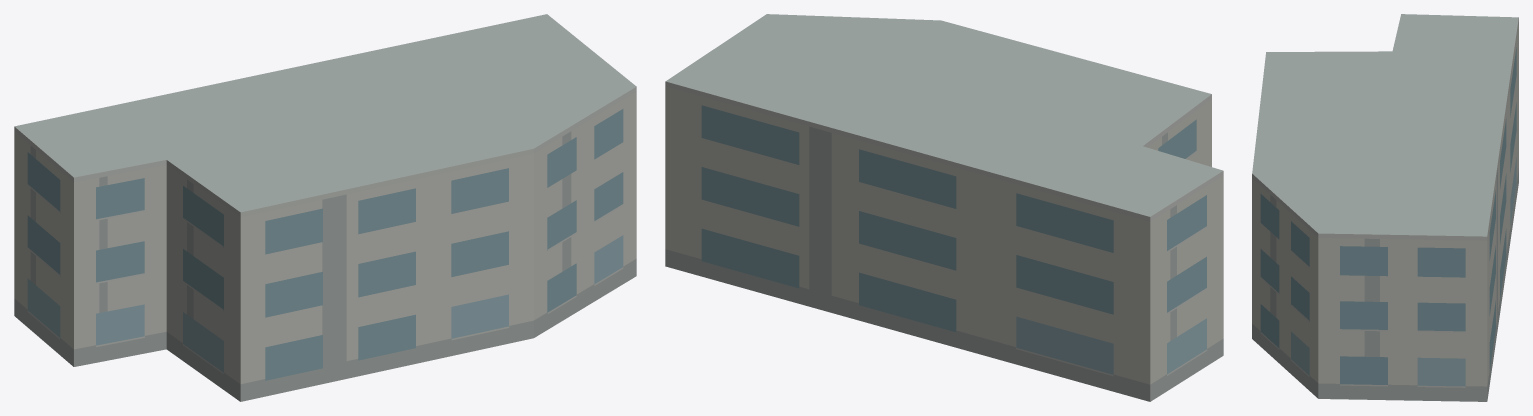
Rendered from survey-upis-33014542.glb.
3 renders of one model, left to right at view 1: azimuth 30°, elevation 25°; view 2: azimuth 150°, elevation 25°; view 3: azimuth 270°, elevation 25°, orthographic. The views are drawn at different scales.
Parts seen in each view (by area): view 1: survey-upis-33014542.tmp; view 2: survey-upis-33014542.tmp; view 3: survey-upis-33014542.tmp.
Part boxes in pixels (bbox=[...]): survey-upis-33014542.tmp: bbox=[14, 14, 636, 401]; survey-upis-33014542.tmp: bbox=[665, 14, 1223, 401]; survey-upis-33014542.tmp: bbox=[1252, 14, 1518, 401].
Bounding box in the file's own units: 26.42 × 9.15 × 13.39.
